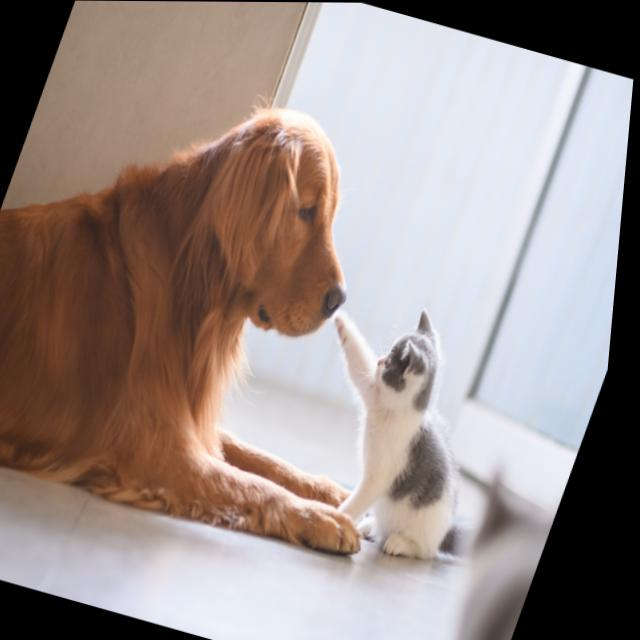Cat: (273, 299, 539, 560)
Dog: (0, 64, 397, 523)
